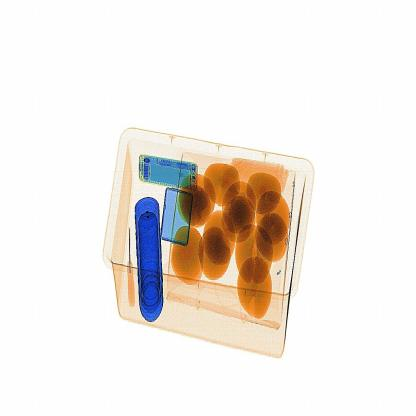wrench: (123, 225, 146, 325)
